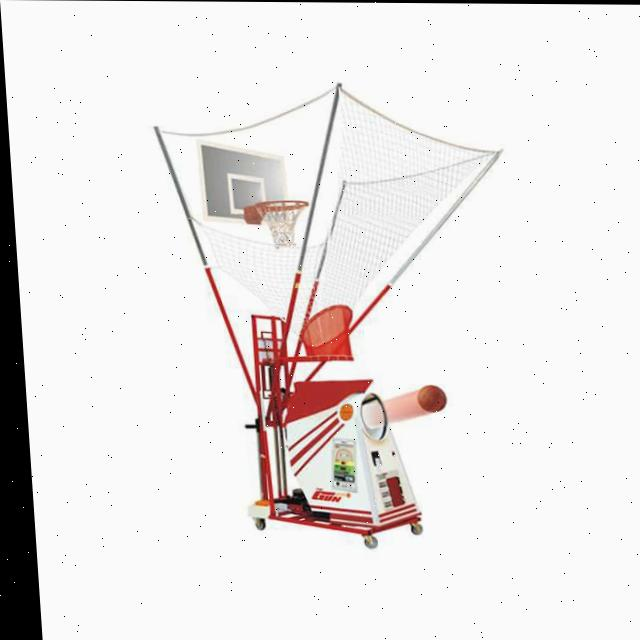hoop: (254, 200, 313, 249)
